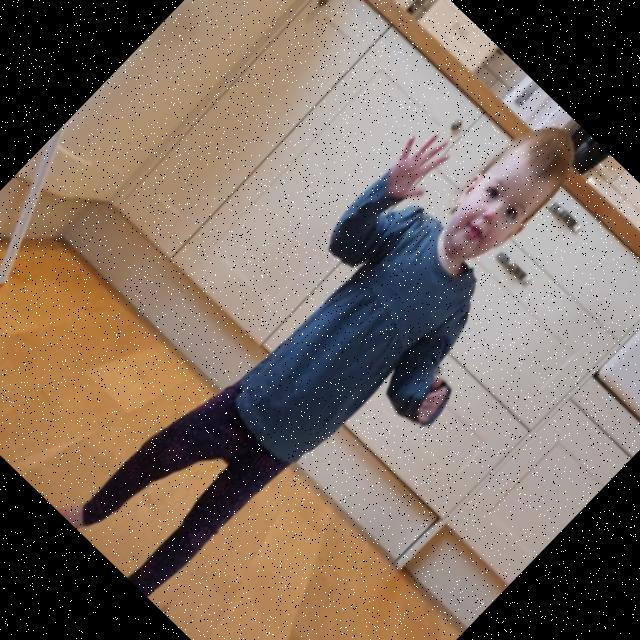Person: (52, 57, 640, 640)
